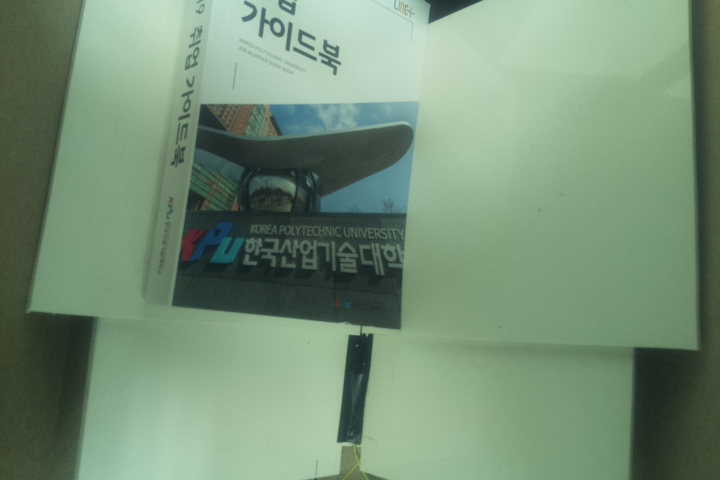book: (137, 1, 436, 334)
